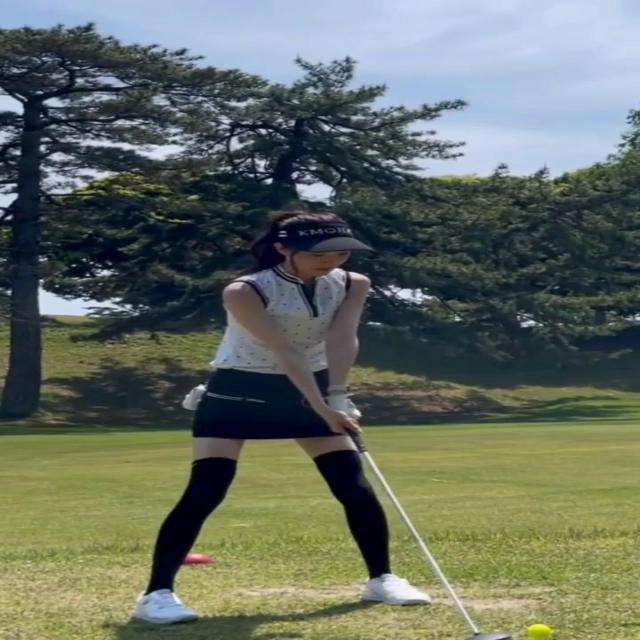ClubHandle: (344, 425, 510, 640)
ClubHead: (466, 632, 510, 640)
GolfBall: (526, 625, 551, 637)
